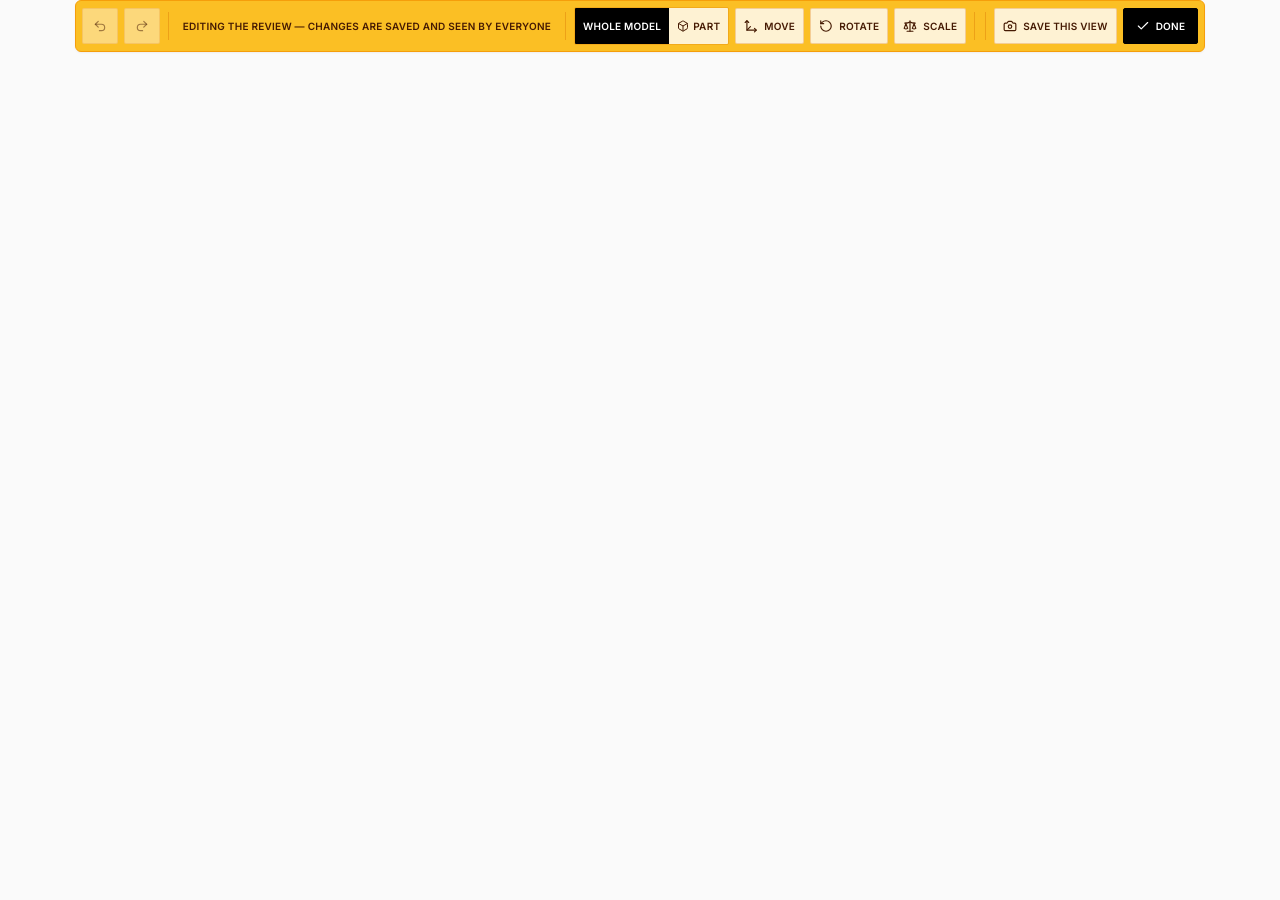
Test case: the strip when it does not fit › truncates the part name last, with the whole name in the tooltip
What coordinates should you click on to do the following:
click the button titled "Move, turn and resize one part of a model"
I would click on:
 (699, 26)
Its box is [669,8,728,44].
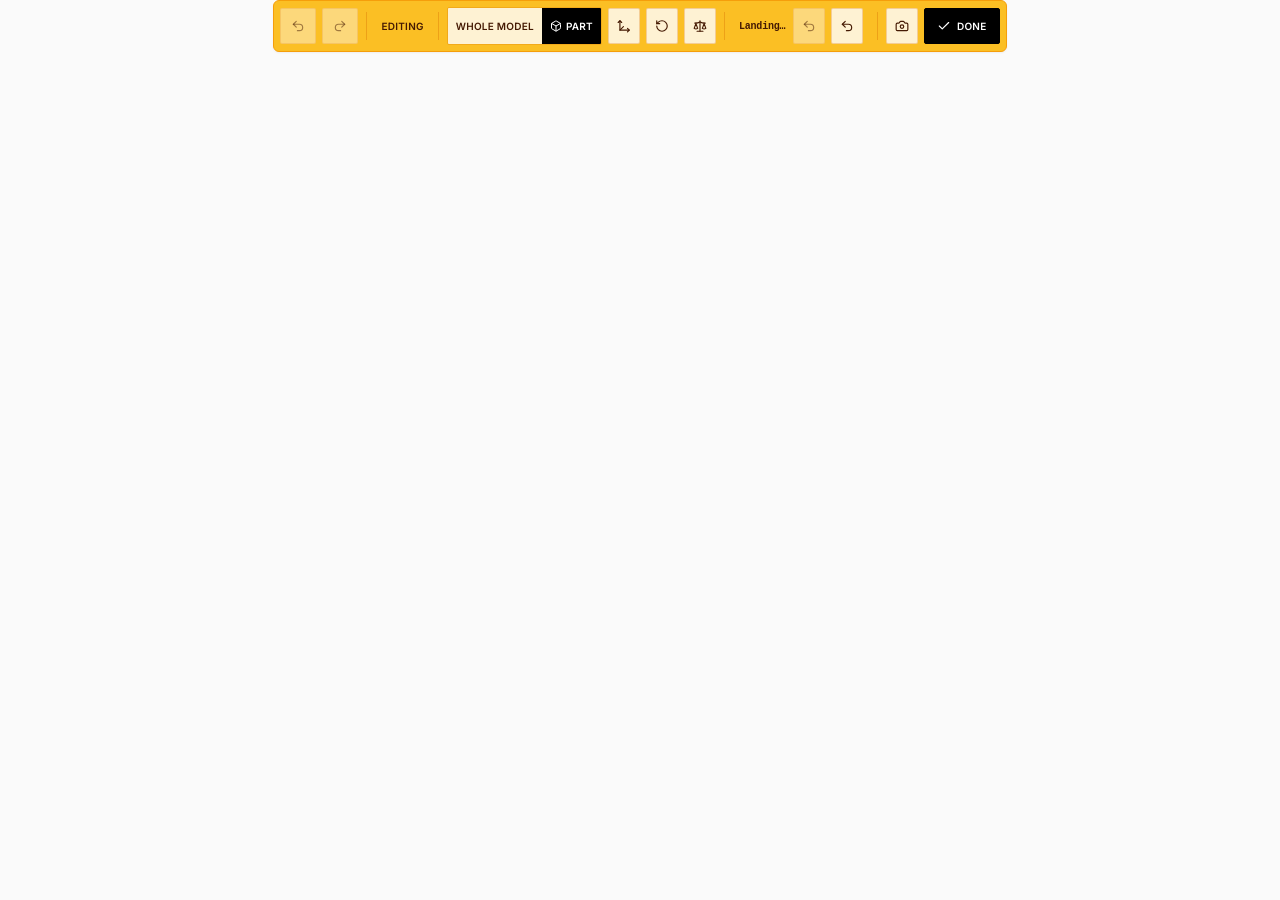
expect the text with test id "gizmo-part-name" reads "Landing gear door hinge bracket, upper left outboard": met, box [739,20,1041,32]
